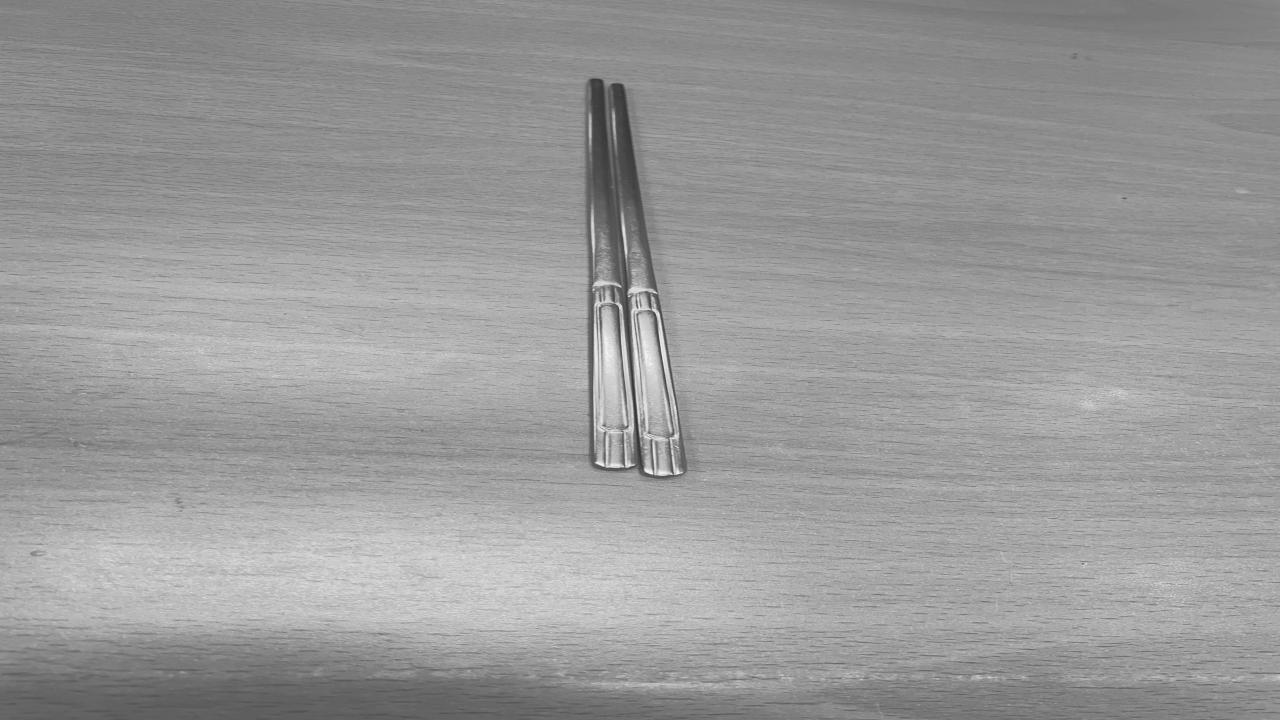chopstick: (588, 80, 684, 476)
